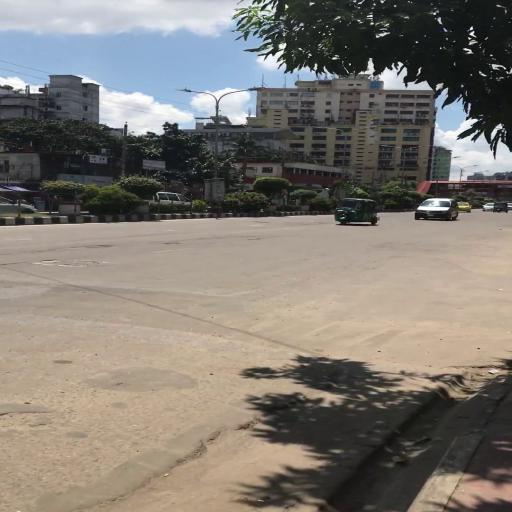car: (482, 203, 495, 212)
minivan: (415, 198, 461, 223)
taxi: (457, 202, 473, 213)
three wheelers (CNG): (334, 198, 382, 227), (493, 202, 510, 215)
